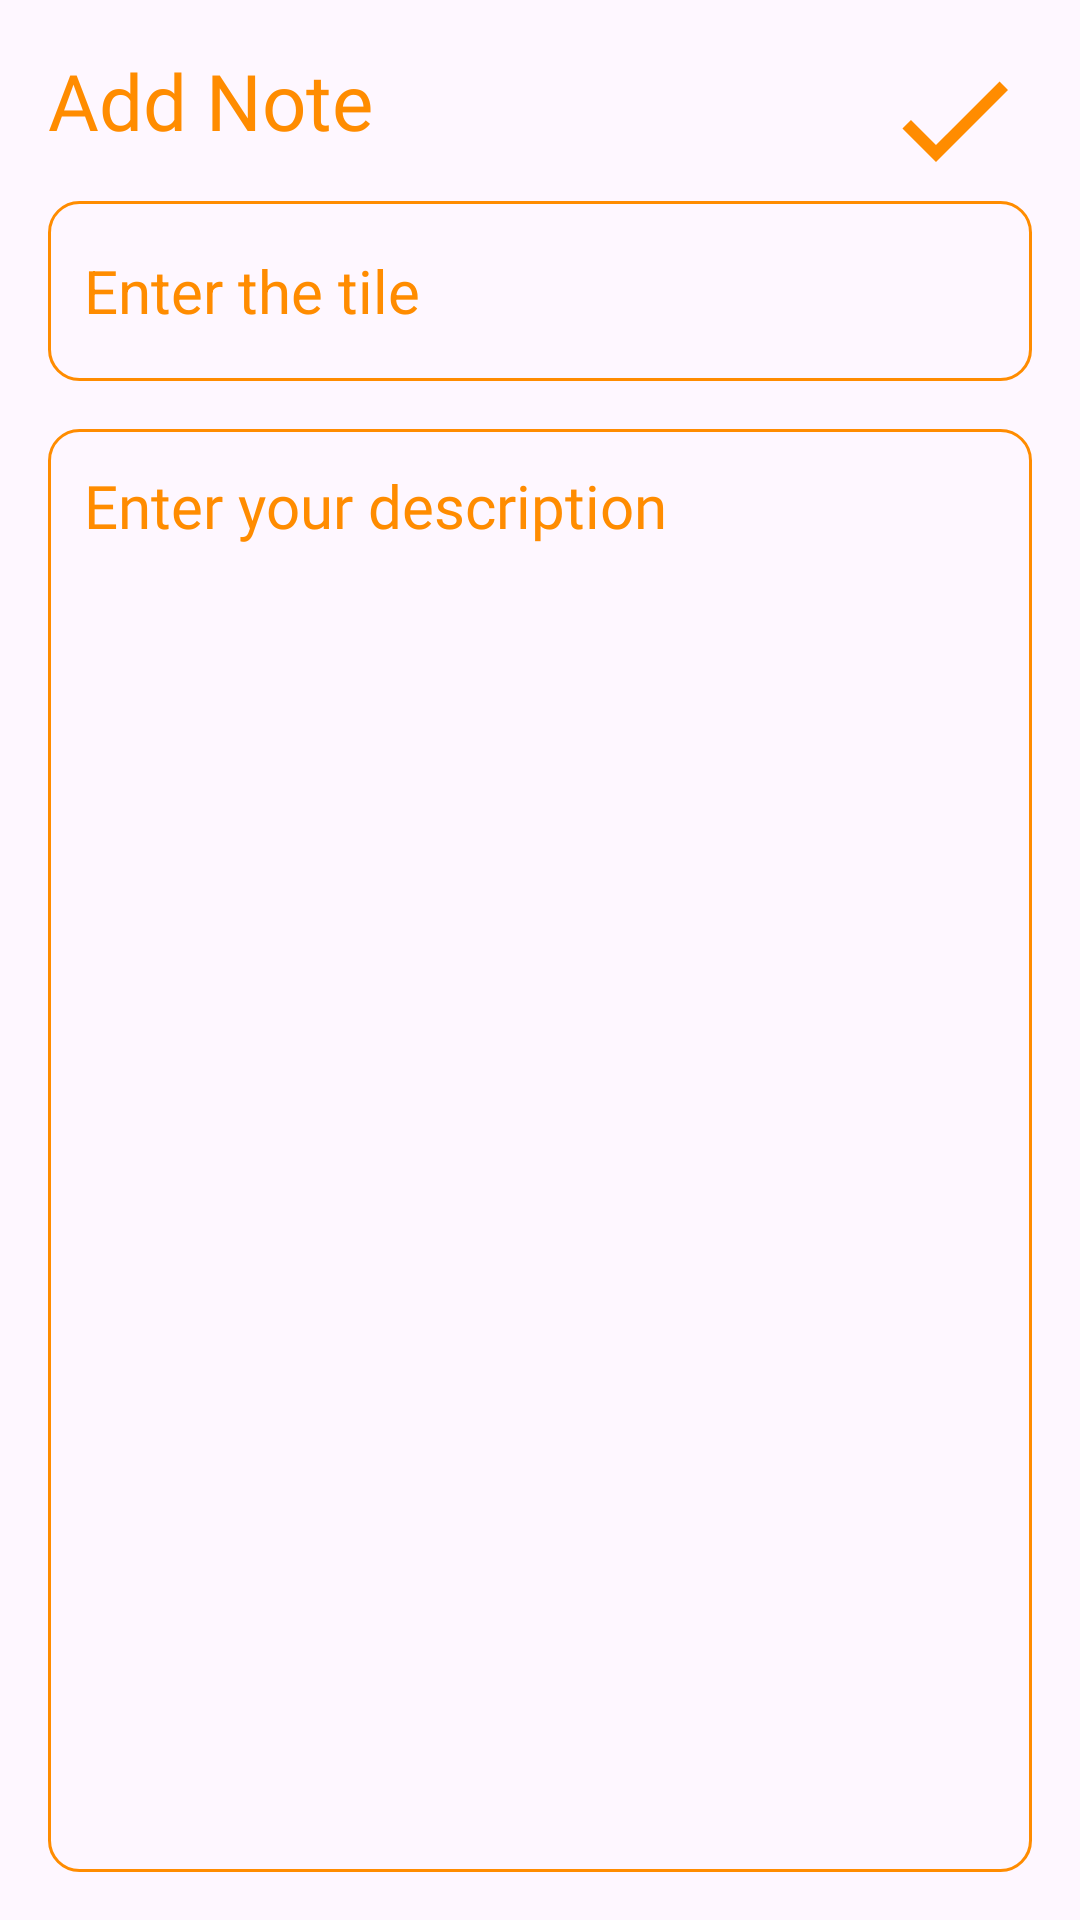

Icons on this 1080x1920 Android screen, each with the point to tap as (x,y):
check: (955,121)
